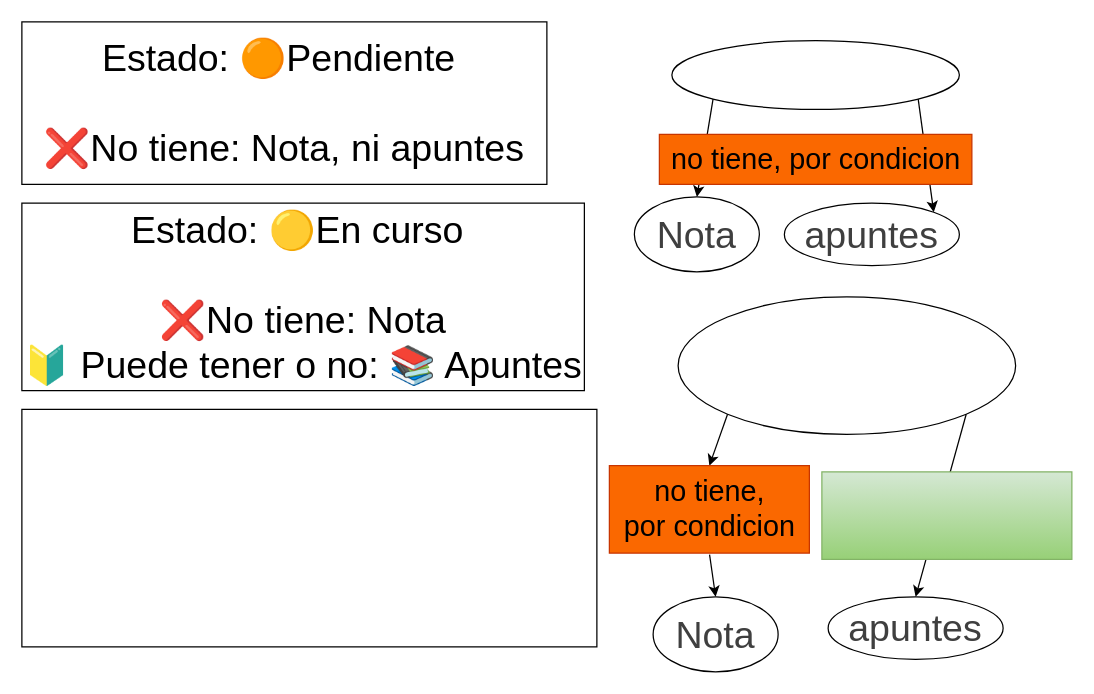
Image size: 1094x694. Some labels were removed from this diagram. Here are the shapes that lost their labels. From the top down, the box of each, then its label:
(671, 39, 959, 109): 🟠Pendiente
(677, 296, 1016, 434): 🟡En curso 🟢Promocionada
(21, 408, 597, 647): Estado: 🟢Promocionada ❌No tiene: Nota 🔰 Puede tener o no: 📚 Apuntes
(821, 471, 1072, 559): puede tener o no (opcional)
